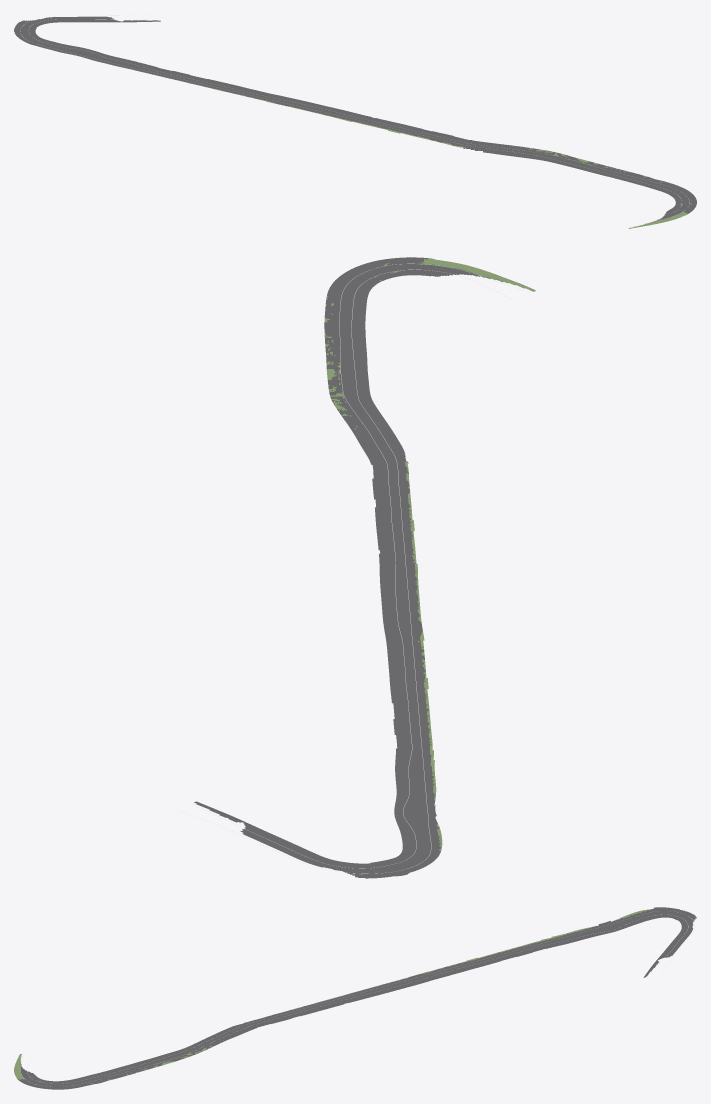
File: pit_lane.glb
The picture shows the model from 3 angles, top to bottom: view 1: azimuth 30°, elevation 25°; view 2: azimuth 150°, elevation 25°; view 3: azimuth 270°, elevation 25°; orthographic projection. The views are drawn at different scales.
Parts seen in each view (by area): view 1: pit_lane; view 2: pit_lane; view 3: pit_lane.
Part boxes in pixels (x1,y1,x2,y2): pit_lane: [14, 14, 696, 228]; pit_lane: [180, 257, 535, 878]; pit_lane: [14, 907, 696, 1089].
Size of the model in its own units: 294 by 12.61 by 500.
